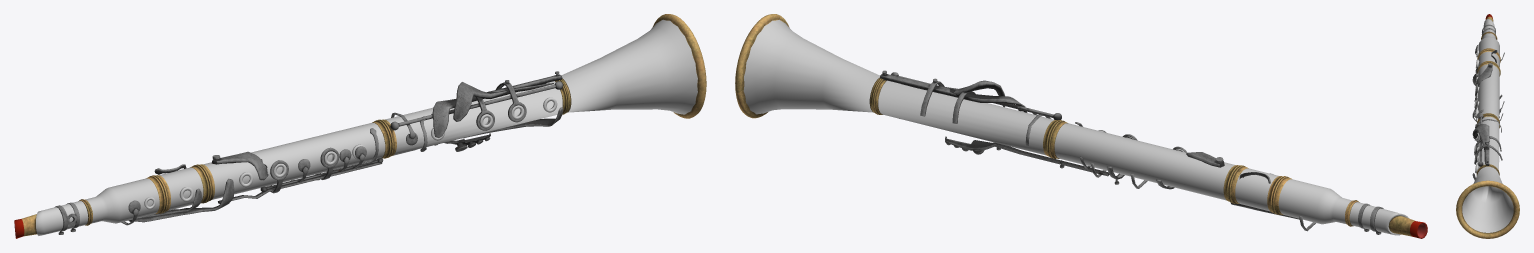
Rendered from clarinet.fbx.
3 views of the same model, side by side, from view 1: azimuth 30°, elevation 25°; view 2: azimuth 150°, elevation 25°; view 3: azimuth 270°, elevation 25° (orthographic). The views are drawn at different scales.
Parts seen in each view (by area): view 1: FLAUTA SOLA_0; view 2: FLAUTA SOLA_0; view 3: FLAUTA SOLA_0.
Part boxes in pixels (x1,y1,x2,y2): FLAUTA SOLA_0: [14, 14, 706, 238]; FLAUTA SOLA_0: [735, 14, 1427, 238]; FLAUTA SOLA_0: [1456, 14, 1519, 238].
Size of the model in its own units: 50.52 by 7.03 by 7.03.
